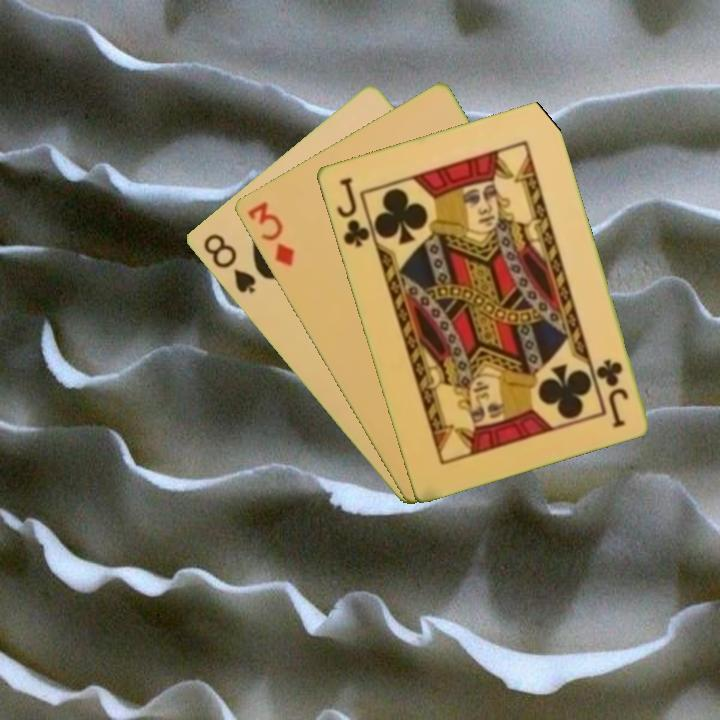3d: (243, 198, 297, 270)
8s: (199, 229, 259, 297)
Jc: (332, 173, 372, 250), (593, 355, 631, 430)
